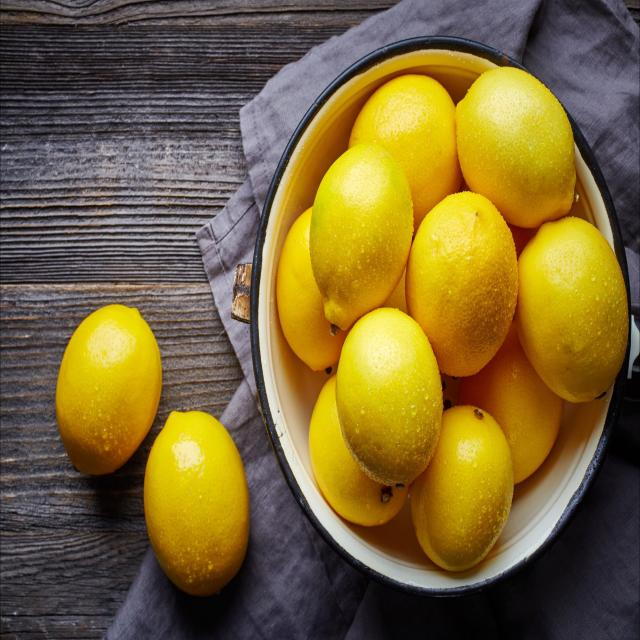lemon: (452, 62, 580, 234), (334, 304, 446, 494), (52, 302, 167, 479)
